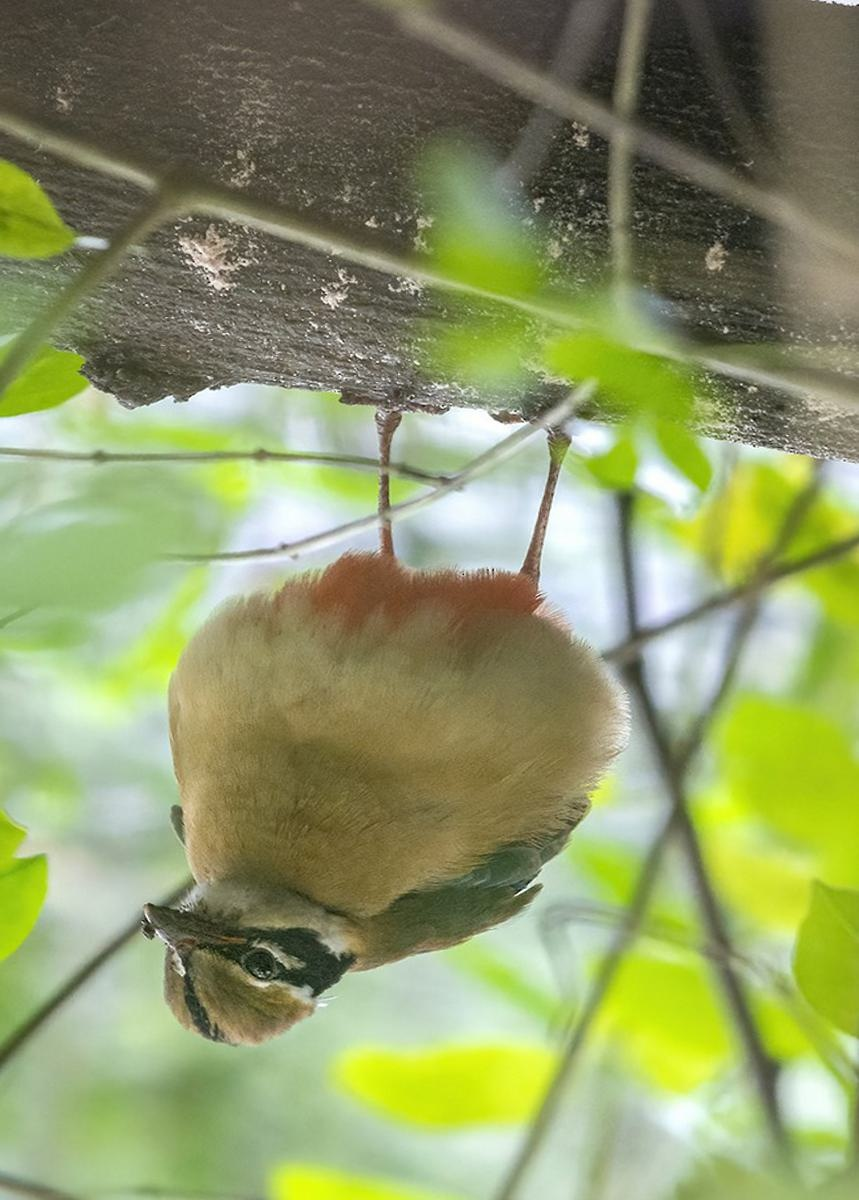pitta: (143, 272, 708, 1073)
